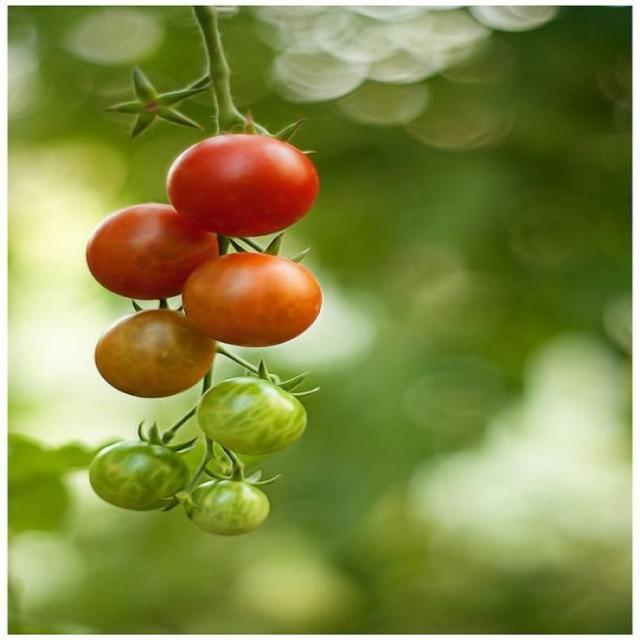level 1: (89, 438, 190, 511)
level 2: (194, 376, 314, 454)
level 4: (91, 312, 217, 399)
level 5: (185, 253, 324, 345)
level 6: (166, 132, 320, 230), (87, 202, 220, 303)
